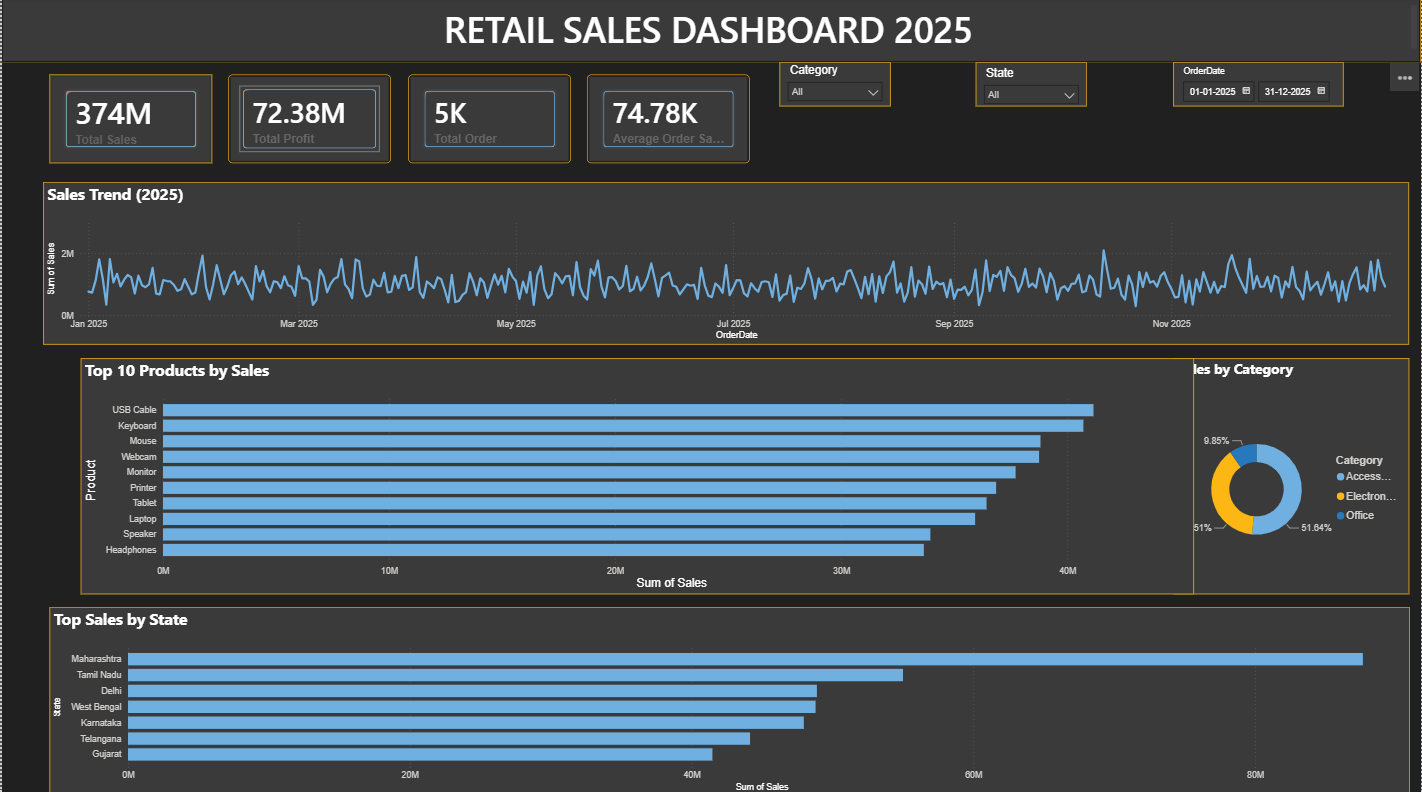

What the dashboard file says about the page in this screenshot:
{"tool":"powerbi","page":{"name":"Page 1","canvas":[1920,1080],"ordinal":0},"visuals":[{"type":"cardVisual","fields":{"Data":["orders.Total Sales"]},"box":[64.2,104.5,220,120],"z":0},{"type":"cardVisual","fields":{"Data":["orders.Total Profit"]},"box":[306.5,104.5,220,120],"z":1000},{"type":"cardVisual","fields":{"Data":["orders.Total Order"]},"box":[548.8,104.5,220,120],"z":2000},{"type":"cardVisual","fields":{"Data":["orders.Average Order Sales"]},"box":[791.2,104.5,220,120],"z":3000},{"type":"lineChart","title":"Sales Trend (2025)","fields":{"Category":["orders.OrderDate"],"Y":["Sum(orders.Sales)"]},"box":[56,250,1847.3,220.2],"z":4000},{"type":"textbox","box":[0,0,1919.6,88.3],"z":5000},{"type":"donutChart","title":"Sales by Category","fields":{"Category":["orders.Category"],"Y":["Sum(orders.Sales)"]},"box":[1584.2,488.9,319.1,319.1],"z":6000},{"type":"clusteredBarChart","title":"Top 10 Products by Sales","fields":{"Category":["orders.Product"],"Y":["Sum(orders.Sales)"]},"box":[56,488.9,1505.8,319.1],"z":7000},{"type":"clusteredBarChart","title":"Top Sales by State","fields":{"Y":["Sum(orders.Sales)"],"Category":["orders.State"]},"box":[63.4,824.7,1839.8,255.6],"z":8000},{"type":"slicer","fields":{"Values":["orders.Category"]},"box":[1050.9,88.3,150,60],"z":9000},{"type":"slicer","fields":{"Values":["orders.State"]},"box":[1317.8,88.3,150,60],"z":10000},{"type":"slicer","fields":{"Values":["orders.OrderDate"]},"box":[1584.7,88.3,230,60],"z":11000}]}

Visuals, with their boxes in screenshot pixels (x1, y1, x2, y2), scaled from the page's 1920x1080 canvas onto the 1422x792 screenshot:
cardVisual - orders.Total Sales: region(48, 77, 210, 165)
cardVisual - orders.Total Profit: region(227, 77, 390, 165)
cardVisual - orders.Total Order: region(406, 77, 569, 165)
cardVisual - orders.Average Order Sales: region(586, 77, 749, 165)
"Sales Trend (2025)" lineChart: region(41, 183, 1410, 345)
textbox: region(0, 0, 1421, 65)
"Sales by Category" donutChart: region(1173, 359, 1410, 593)
"Top 10 Products by Sales" clusteredBarChart: region(41, 359, 1157, 593)
"Top Sales by State" clusteredBarChart: region(47, 605, 1410, 791)
slicer - orders.Category: region(778, 65, 889, 109)
slicer - orders.State: region(976, 65, 1087, 109)
slicer - orders.OrderDate: region(1174, 65, 1344, 109)
